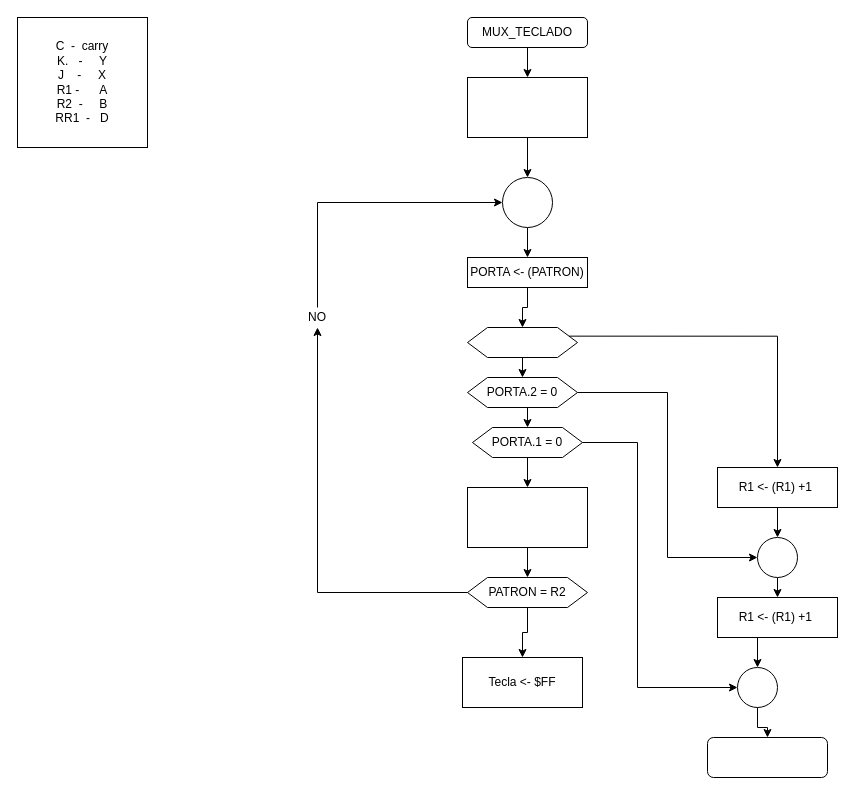
Some shapes in this 855 by 795 pixel diagram are drawn without their labels. Each missing label, with the centre of its shape:
J <- Teclas R1 <- $00 R2 <- $F0 PATRON <- $EF: (527,107)
PORTA.3 = 0: (522,342)
R1 <- 3 C <- PATRON <- 0 R2 <- $F0: (527,517)
RTS: (767,757)
